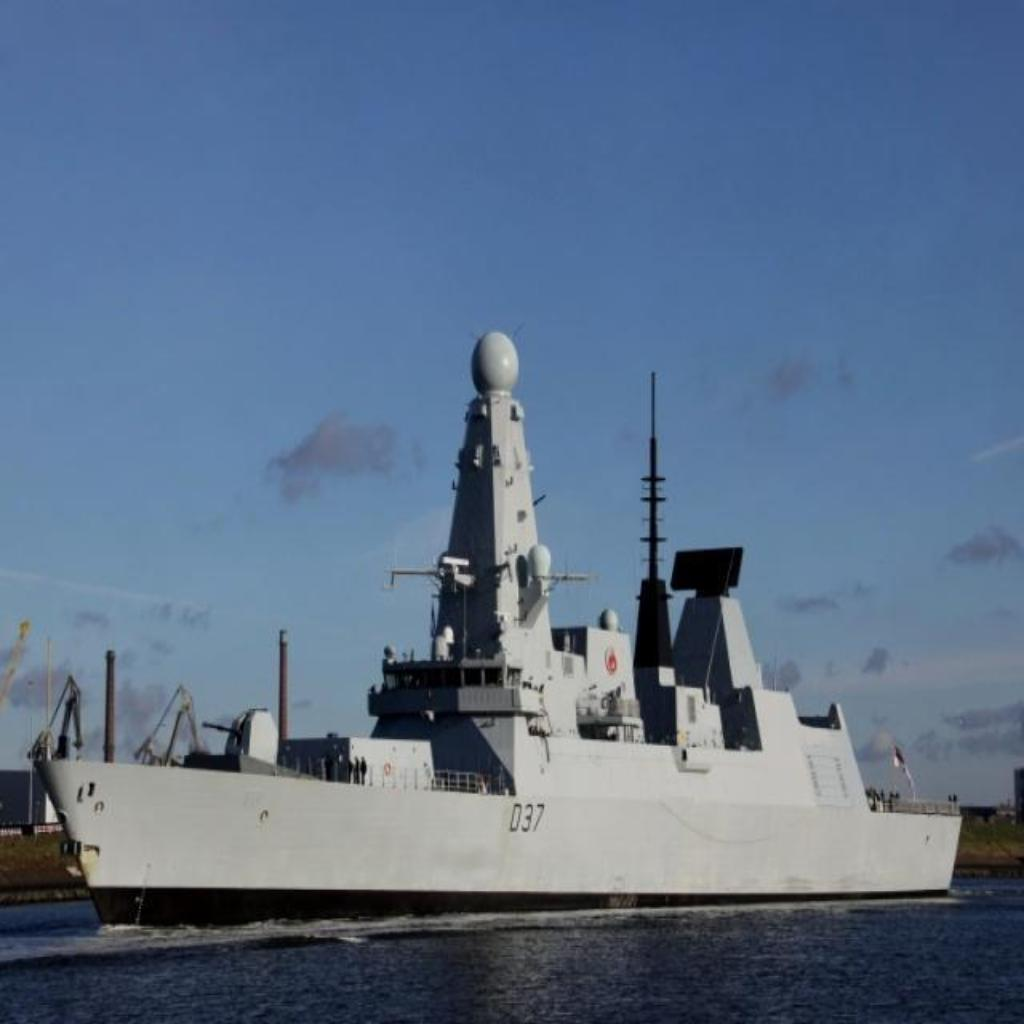Warship: (28, 295, 968, 933)
